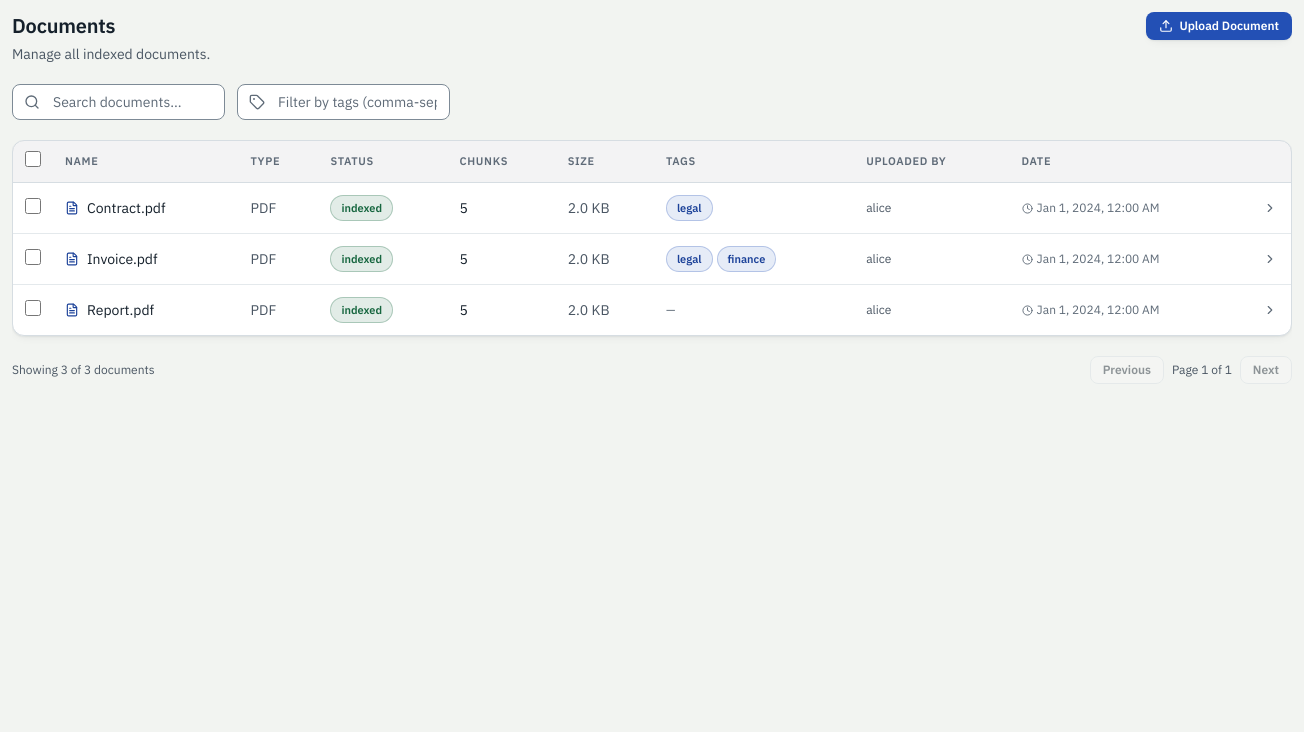
Test: AdminDocumentsPage — Fix round 1 › prunes stale selection when the visible set changes (e.g., search narrows results)
Expected: the text "Contract.pdf" is shown, [87, 198, 166, 218]
Click the checkbox named "Select all documents": (33, 159) [25, 151, 41, 167]
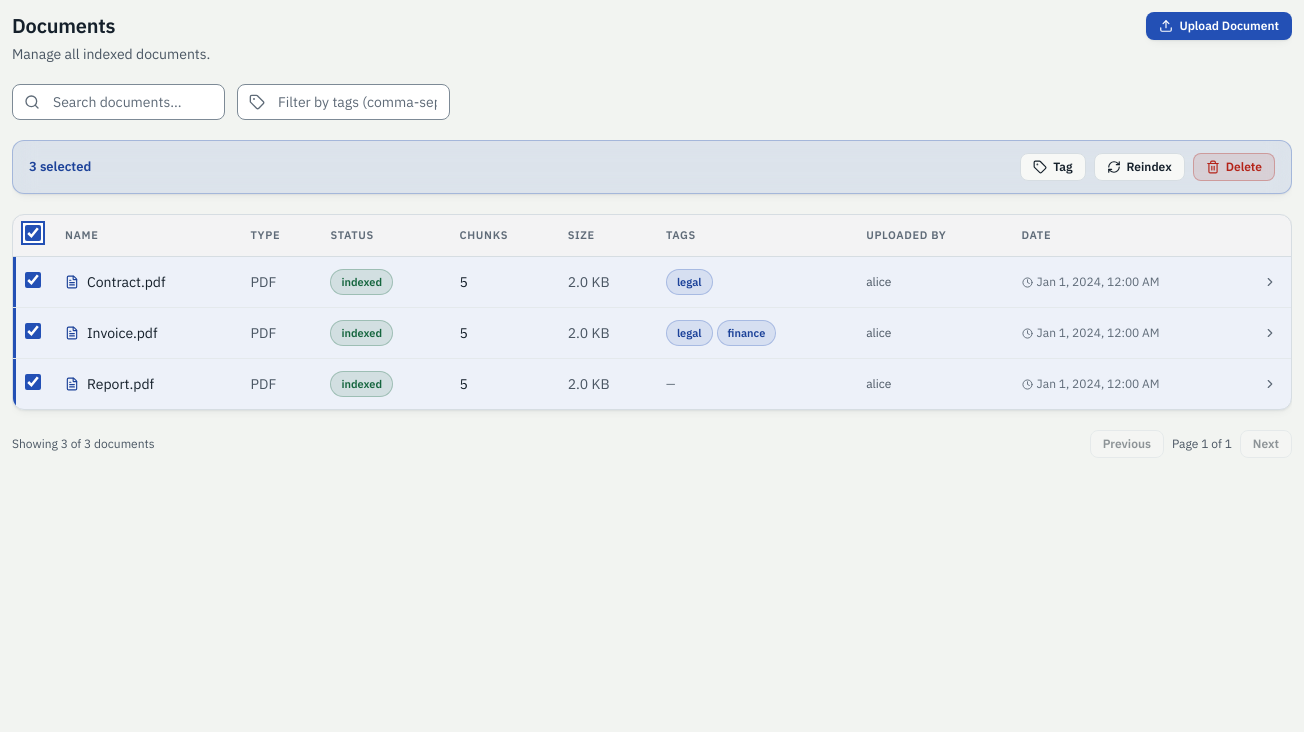
Result: the text "3 selected" is shown at [29, 157, 91, 177]
In the field with placeholder "Search documents...": (118, 102) [12, 84, 225, 120], type "z"
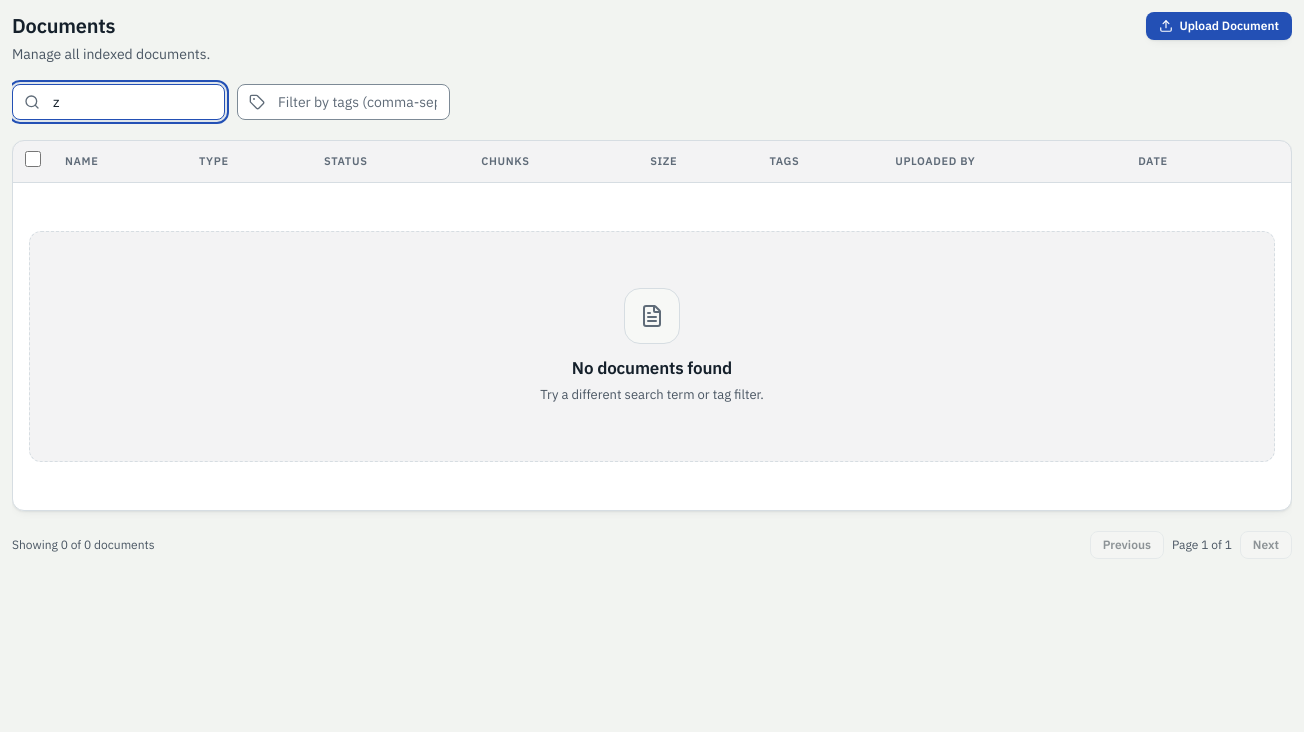
Result: the text "selected" is gone
